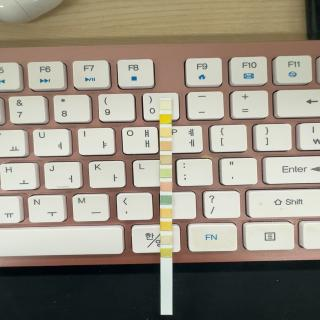mark: (160, 154, 172, 164), (160, 141, 172, 151), (160, 114, 172, 124), (160, 100, 172, 110), (161, 234, 173, 244), (160, 221, 172, 231), (160, 208, 172, 218), (160, 182, 172, 192), (160, 168, 172, 178), (160, 128, 172, 137), (161, 248, 173, 257), (160, 196, 172, 204)
